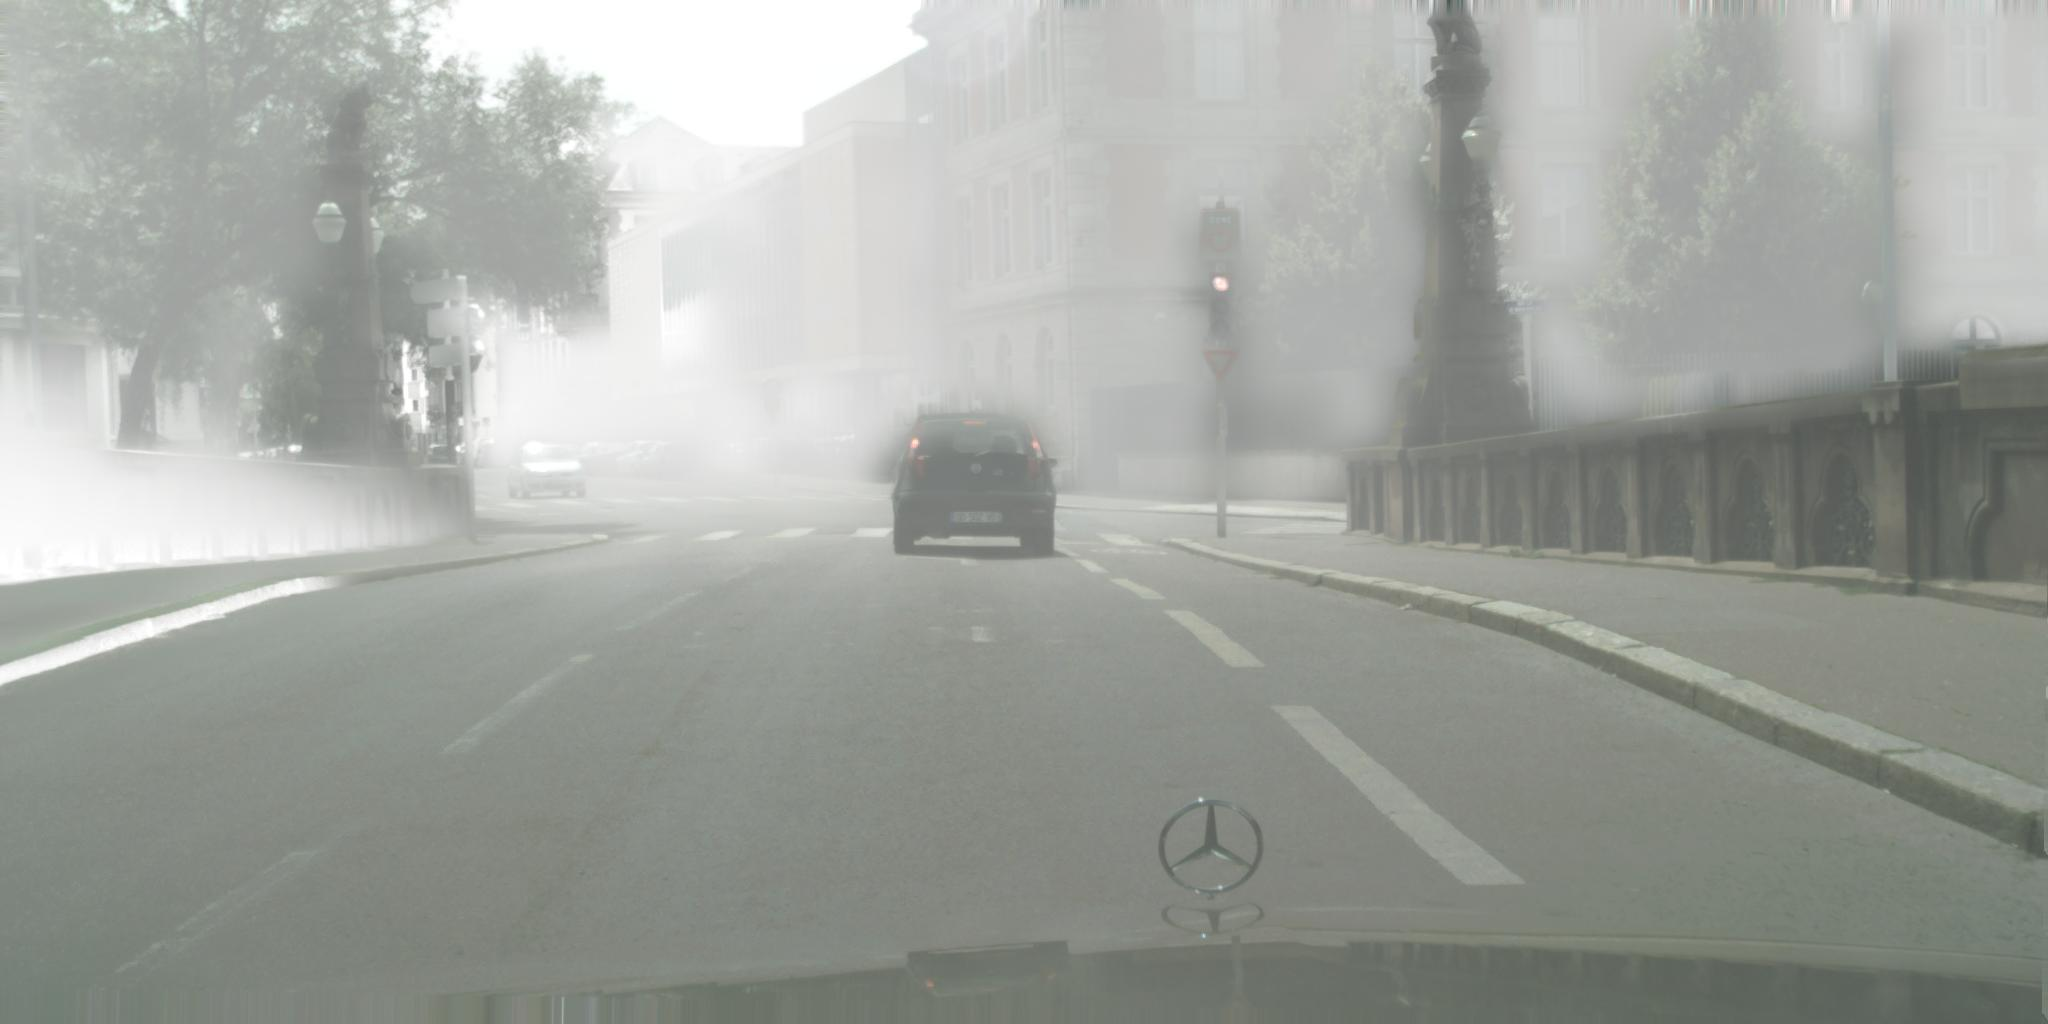car: (892, 411, 1061, 556), (505, 438, 586, 502), (640, 440, 704, 482), (613, 439, 667, 479), (583, 441, 637, 477), (569, 441, 611, 479), (477, 438, 521, 468), (546, 439, 588, 468), (427, 443, 453, 479), (469, 439, 494, 472), (455, 441, 472, 472)
